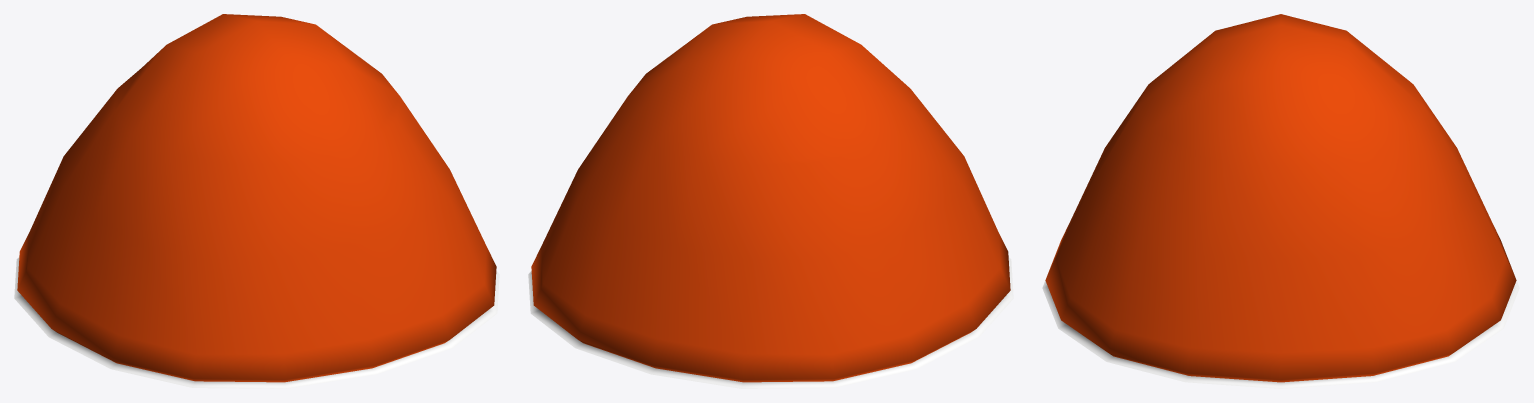
File: topShip.glb
3 renders of one model, left to right at view 1: azimuth 30°, elevation 25°; view 2: azimuth 150°, elevation 25°; view 3: azimuth 270°, elevation 25°, orthographic.
Visible parts, largest first — view 1: top; view 2: top; view 3: top.
Part boxes in pixels (left/top/right/bottom): top: left=14, top=14, right=499, bottom=388; top: left=528, top=14, right=1013, bottom=388; top: left=1042, top=14, right=1519, bottom=388.
Bounding box in the file's own units: 1.64 × 0.9958 × 1.64.
